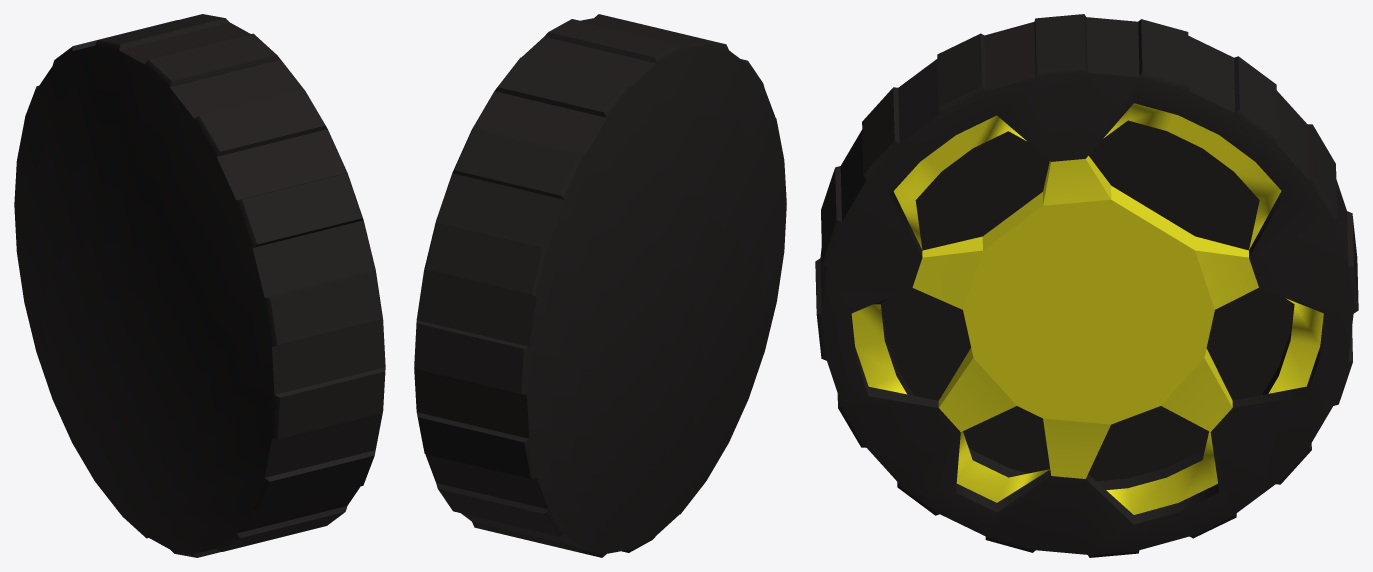
File: RodaSalev2.fbx
The picture shows the model from 3 angles, left to right: view 1: azimuth 30°, elevation 25°; view 2: azimuth 150°, elevation 25°; view 3: azimuth 270°, elevation 25°; orthographic projection. The views are drawn at different scales.
Visible parts, largest first — view 1: Cylinder.005; view 2: Cylinder.005; view 3: Cylinder.005.
Part boxes in pixels (x1,y1,x2,y2): Cylinder.005: [14, 14, 385, 557]; Cylinder.005: [414, 14, 786, 557]; Cylinder.005: [815, 14, 1358, 557].
Size of the model in its own units: 19.75 by 77.89 by 77.7.
